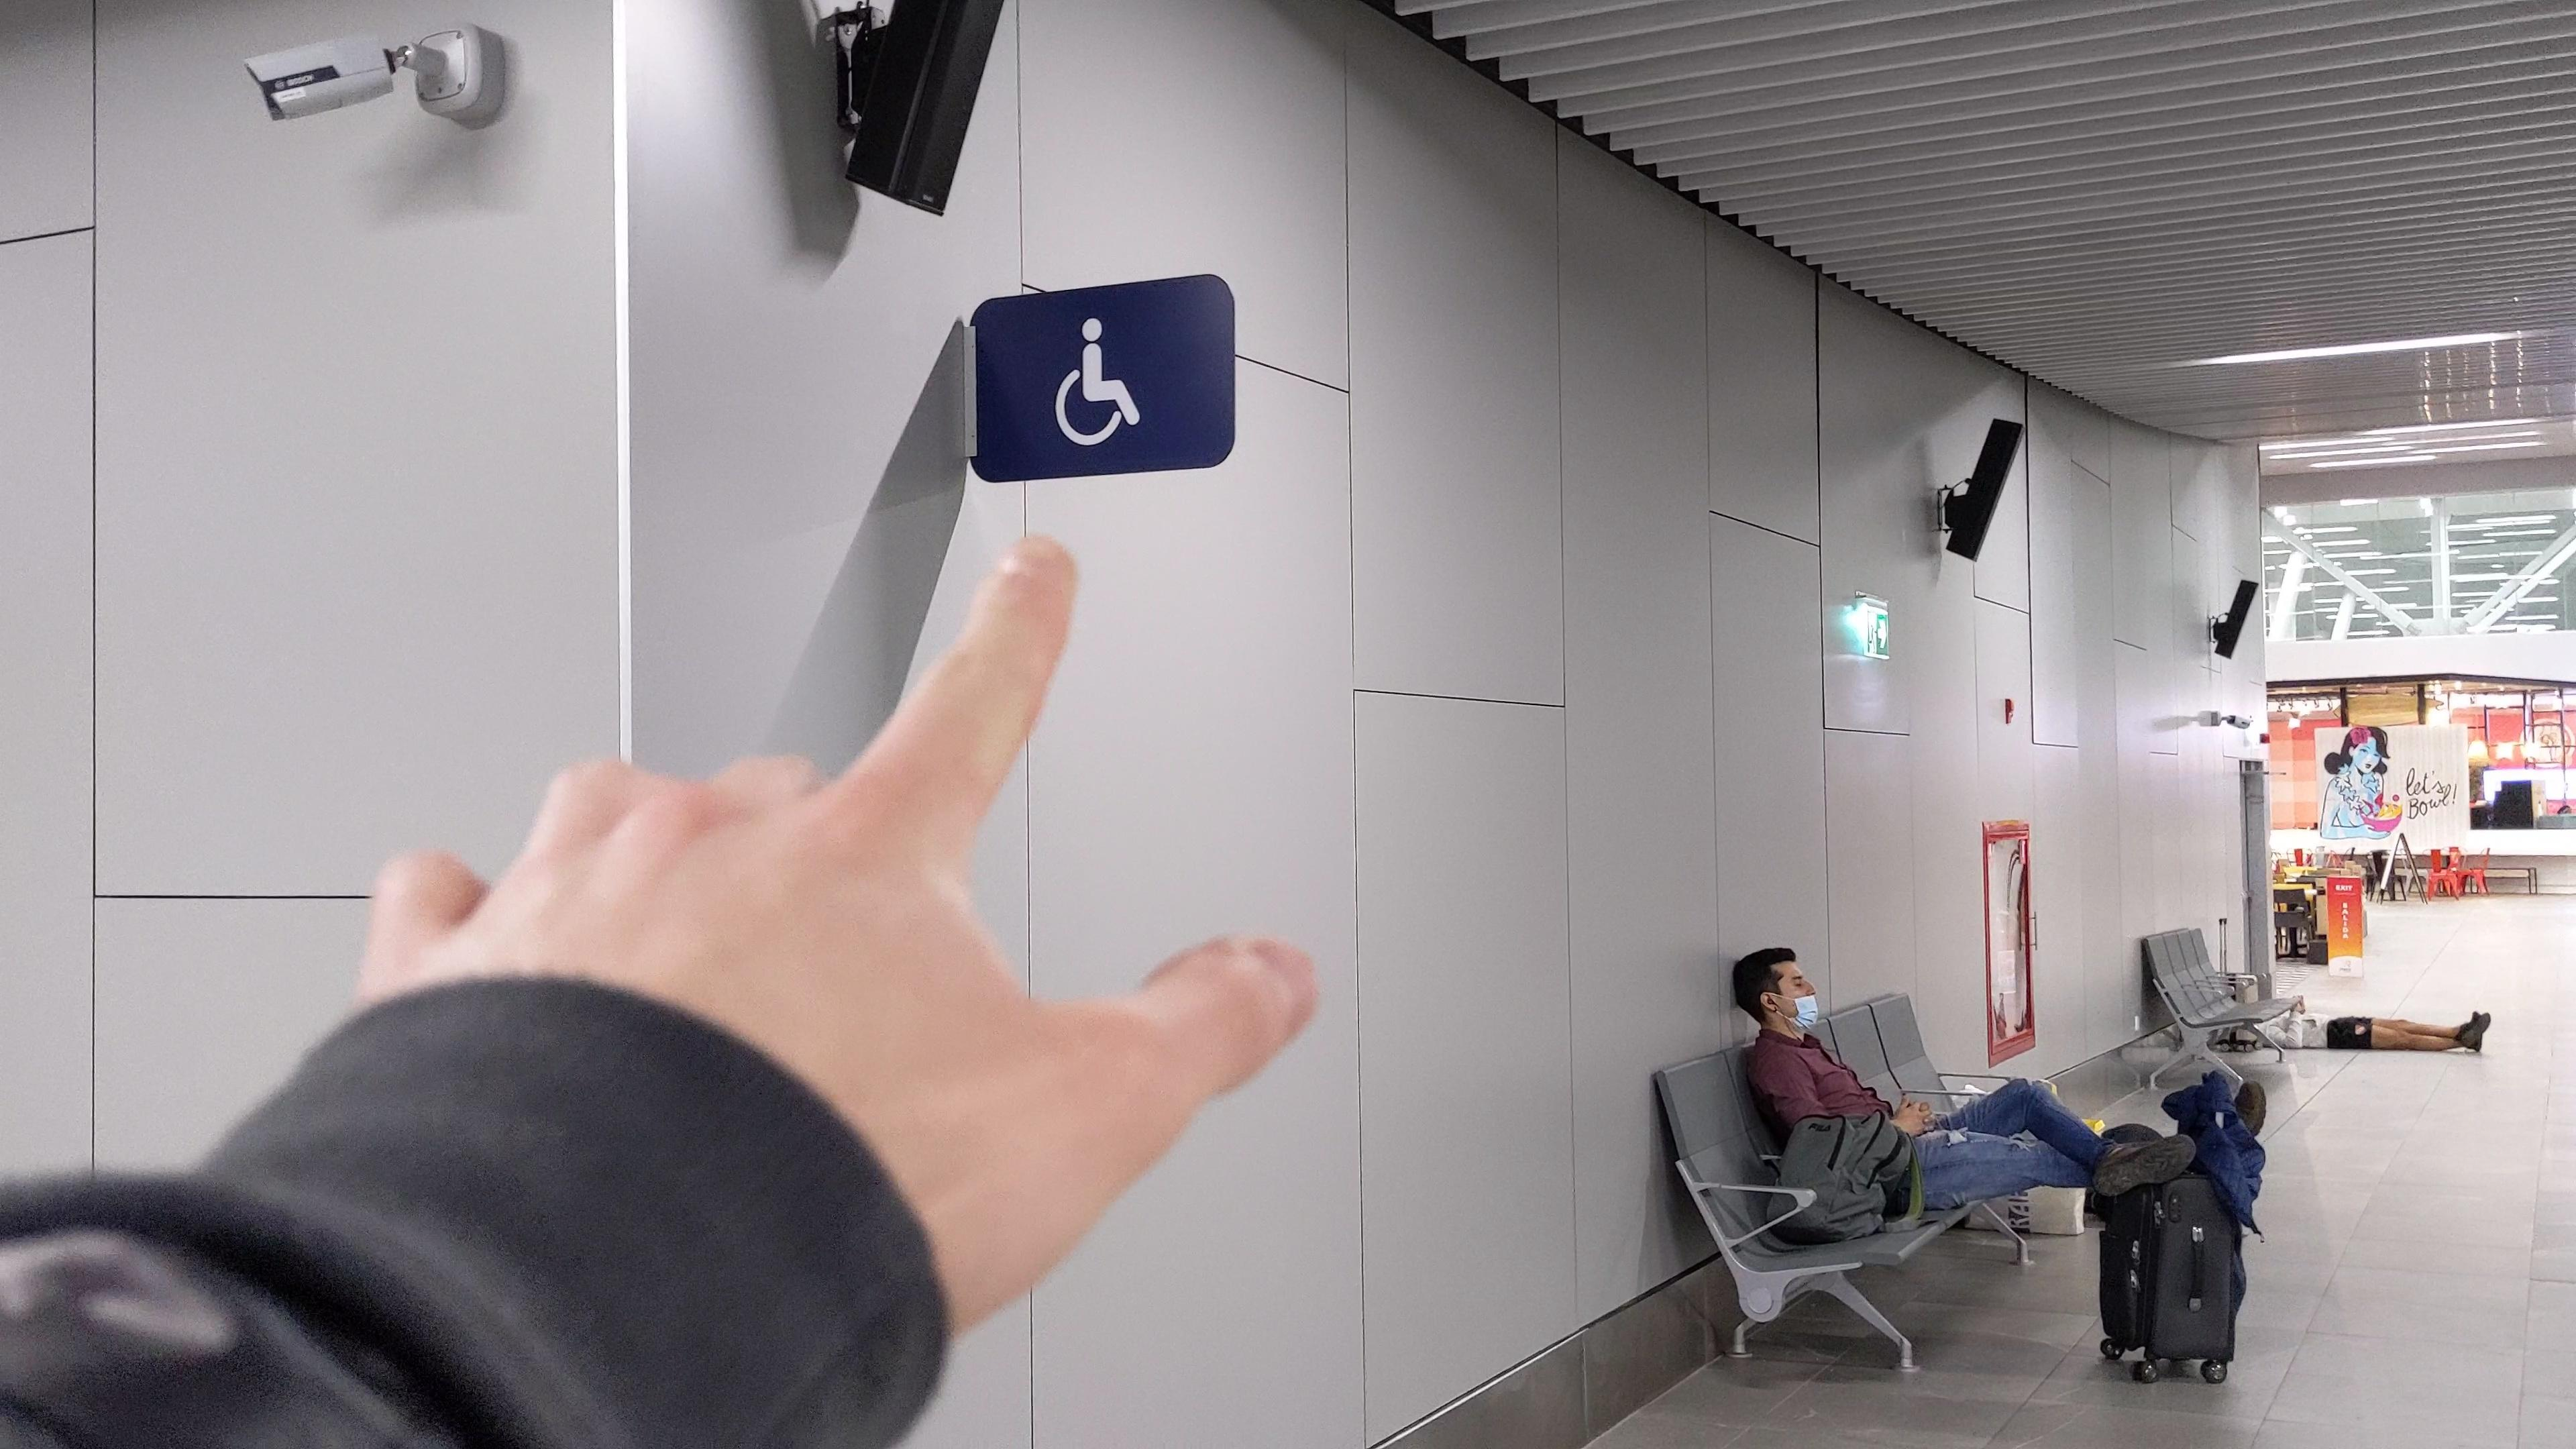handicapped symbol: (1049, 315, 1148, 453)
